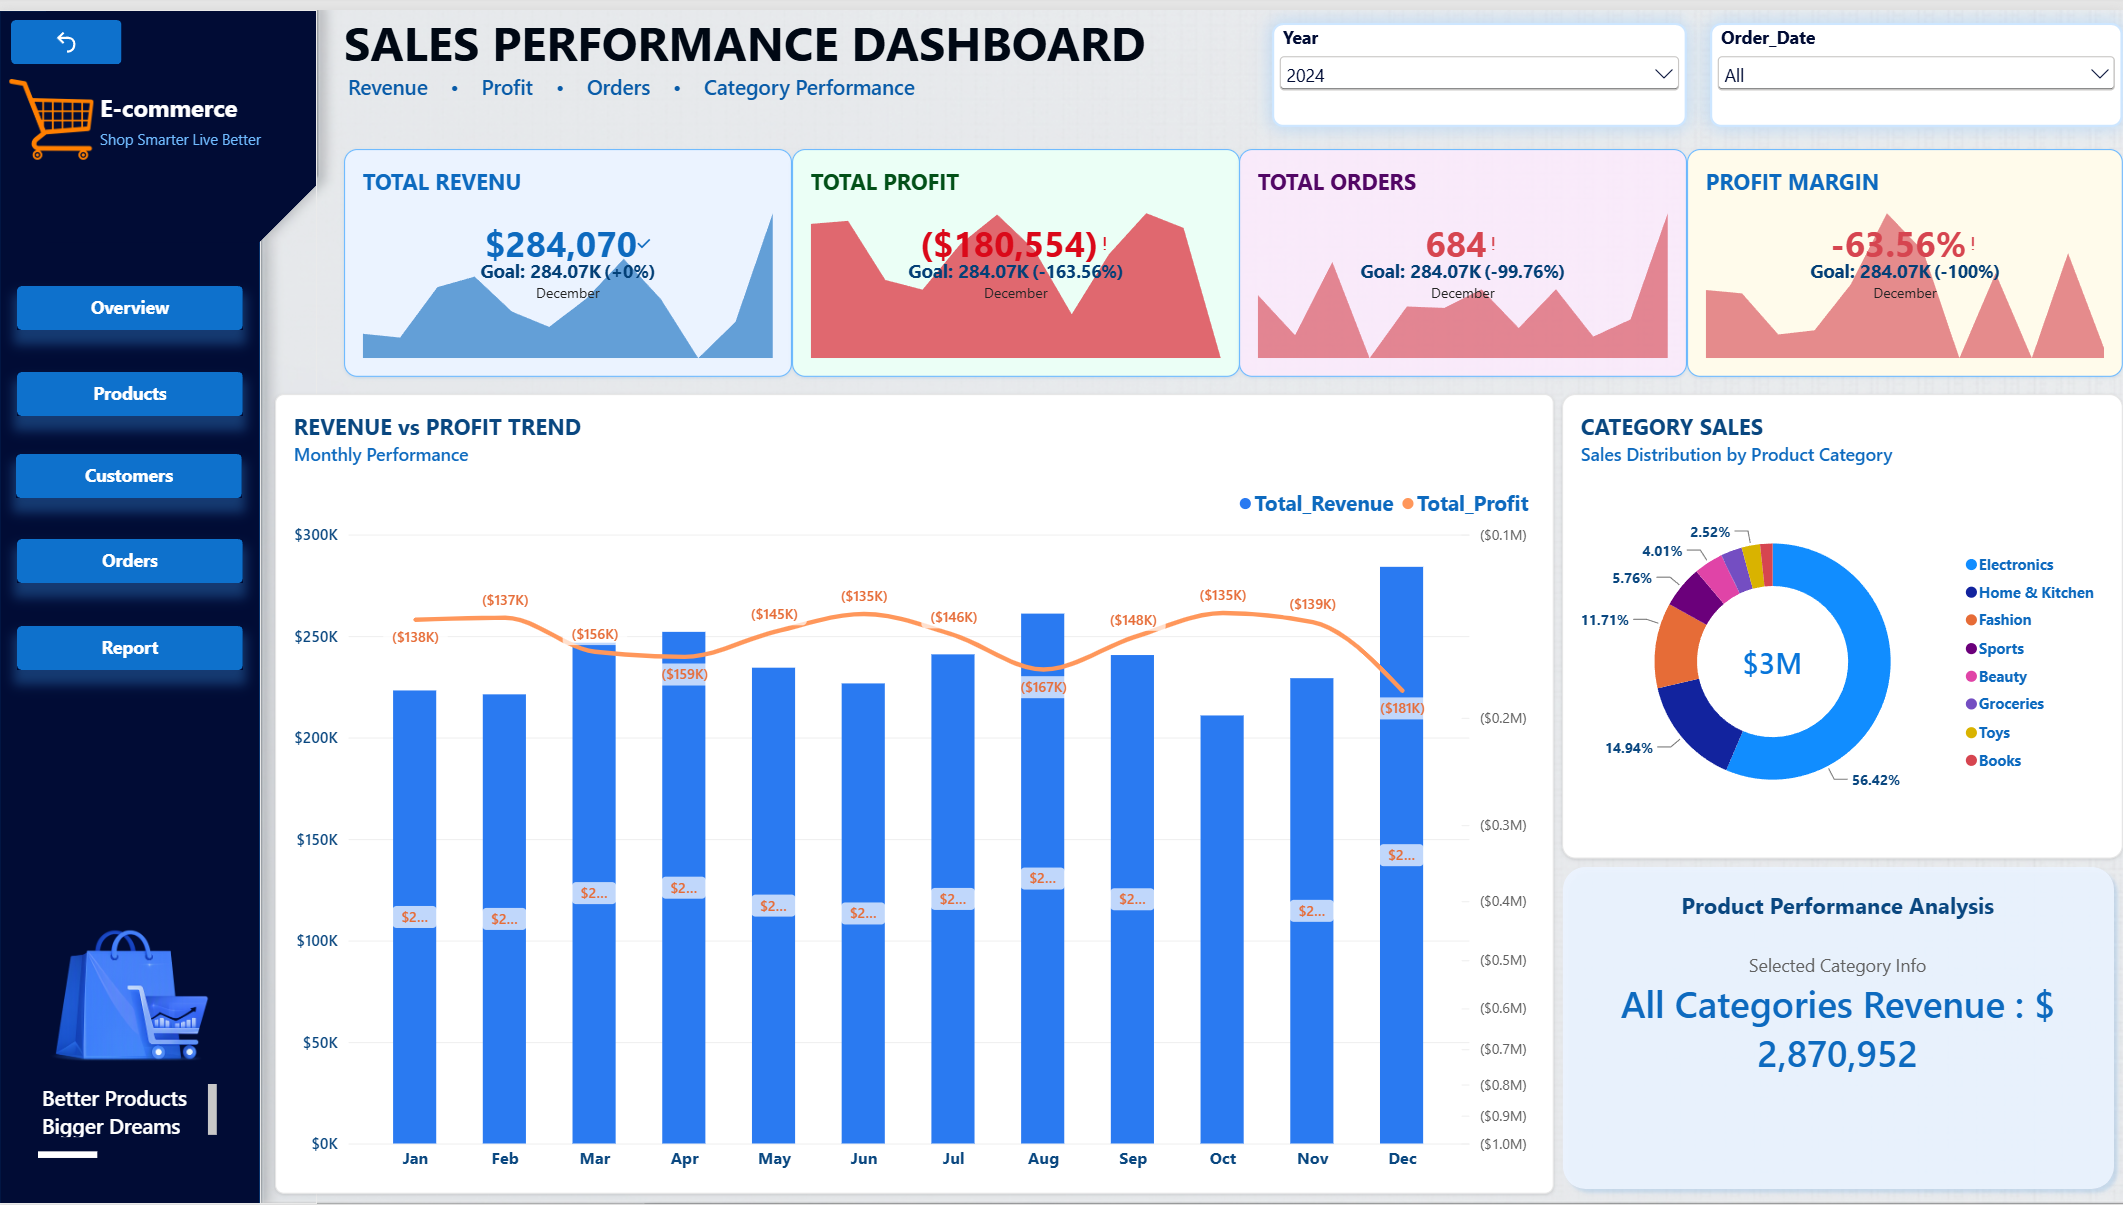

The page's visual inventory and layout, read from the dashboard file:
{"tool":"powerbi","page":{"name":"Sales Overview","canvas":[1920,1080],"ordinal":0},"visuals":[{"type":"textbox","box":[312,0,771.4,98.3],"z":0},{"type":"textbox","box":[315.1,56.9,644.9,48.1],"z":1000},{"type":"shape","box":[0,0,236.6,1079.8],"z":2000,"group":"g1"},{"type":"slicer","fields":{"Values":["ecommerce_orders_dataset (1).Year"]},"box":[1150.5,11.3,375.3,93.6],"z":2000},{"type":"shape","box":[42.2,0,245.4,210.1],"z":3000,"group":"g1"},{"type":"slicer","fields":{"Values":["ecommerce_orders_dataset (1).Order_Date.Variation.Date Hierarchy.Month"]},"box":[1546.6,11.3,373.4,93.6],"z":3000},{"type":"group","id":"g1","title":"Group 1","box":[0,0,287.6,1079.8],"z":4000},{"type":"lineClusteredColumnComboChart","title":"REVENUE vs PROFIT TREND","fields":{"Category":["Calendar.Short Month"],"Y":["ecommerce_orders_dataset (1).Total_Revenue"],"Y2":["ecommerce_orders_dataset (1).Total_Profit"]},"box":[249.6,346.9,1156.2,723.2],"z":5000},{"type":"kpi","title":"TOTAL REVENU","fields":{"Goal":["Calendar.Revenue LY"],"Indicator":["ecommerce_orders_dataset (1).Total_Revenue"],"TrendLine":["Calendar.Calendar Month"]},"box":[312,125.7,404.6,206.1],"z":6000},{"type":"donutChart","title":"CATEGORY SALES","fields":{"Category":["ecommerce_orders_dataset (1).Product_Category"],"Y":["ecommerce_orders_dataset (1).Total_Revenue"]},"box":[1413.3,346.9,506.7,419.7],"z":7000},{"type":"kpi","title":"TOTAL PROFIT","fields":{"Goal":["Calendar.Revenue LY"],"Indicator":["ecommerce_orders_dataset (1).Total_Profit"],"TrendLine":["Calendar.Calendar Month"]},"box":[716.6,125.7,404.6,206.1],"z":8000},{"type":"shape","box":[1405.7,766.7,514.3,307.2],"z":9000},{"type":"cardVisual","title":"Product Performance Analysis","fields":{"Data":["Calendar.Selected Category Info"]},"box":[1425.6,787.4,473.1,266],"z":10000},{"type":"kpi","title":"TOTAL ORDERS","fields":{"Goal":["Calendar.Revenue LY"],"Indicator":["ecommerce_orders_dataset (1).Total_Orders"],"TrendLine":["Calendar.Calendar Month"]},"box":[1121.2,125.7,404.6,206.1],"z":11000},{"type":"kpi","title":"PROFIT MARGIN","fields":{"Goal":["Calendar.Revenue LY"],"Indicator":["ecommerce_orders_dataset (1).Profit_Margin"],"TrendLine":["Calendar.Calendar Month"]},"box":[1525.8,125.7,394.2,206.1],"z":12000},{"type":"image","box":[6.3,62.4,82.5,72.6],"z":13000},{"type":"textbox","box":[91.3,74.1,145.5,31.6],"z":14000},{"type":"textbox","box":[91.2,106.2,158.2,47.9],"z":15000},{"type":"image","box":[26.2,827.8,184.5,128.4],"z":16000},{"type":"textbox","box":[38.6,971.2,158,48.1],"z":17000},{"type":"shape","box":[34.9,989.9,53.6,89.8],"z":18000},{"type":"actionButton","box":[10.8,9,100,40],"z":19000},{"type":"actionButton","box":[16.3,249.5,204.3,39.8],"z":20000},{"type":"actionButton","box":[16.3,327.2,204.3,39.8],"z":21000},{"type":"actionButton","box":[15.4,401.4,204.3,39.8],"z":22000},{"type":"actionButton","box":[16.3,556.8,204.3,39.8],"z":23000},{"type":"actionButton","box":[16.3,478.2,204.3,39.8],"z":24000}]}

Visuals, with their boxes on the page's 1920x1080 design canvas (x1, y1, x2, y2). These are canvas units, not pixel positions in the 2123x1205 screenshot, which may show the page scaled, cropped or inside an application window:
textbox: left=312, top=0, right=1083, bottom=98
textbox: left=315, top=57, right=960, bottom=105
shape: left=0, top=0, right=237, bottom=1080
slicer - ecommerce_orders_dataset (1).Year: left=1150, top=11, right=1526, bottom=105
shape: left=42, top=0, right=288, bottom=210
slicer - ecommerce_orders_dataset (1).Order_Date.Variation.Date Hierarchy.Month: left=1547, top=11, right=1920, bottom=105
"Group 1" group: left=0, top=0, right=288, bottom=1080
"REVENUE vs PROFIT TREND" lineClusteredColumnComboChart: left=250, top=347, right=1406, bottom=1070
"TOTAL REVENU" kpi: left=312, top=126, right=717, bottom=332
"CATEGORY SALES" donutChart: left=1413, top=347, right=1920, bottom=767
"TOTAL PROFIT" kpi: left=717, top=126, right=1121, bottom=332
shape: left=1406, top=767, right=1920, bottom=1074
"Product Performance Analysis" cardVisual: left=1426, top=787, right=1899, bottom=1053
"TOTAL ORDERS" kpi: left=1121, top=126, right=1526, bottom=332
"PROFIT MARGIN" kpi: left=1526, top=126, right=1920, bottom=332
image: left=6, top=62, right=89, bottom=135
textbox: left=91, top=74, right=237, bottom=106
textbox: left=91, top=106, right=249, bottom=154
image: left=26, top=828, right=211, bottom=956
textbox: left=39, top=971, right=197, bottom=1019
shape: left=35, top=990, right=88, bottom=1080
actionButton: left=11, top=9, right=111, bottom=49
actionButton: left=16, top=250, right=221, bottom=289
actionButton: left=16, top=327, right=221, bottom=367
actionButton: left=15, top=401, right=220, bottom=441
actionButton: left=16, top=557, right=221, bottom=597
actionButton: left=16, top=478, right=221, bottom=518
